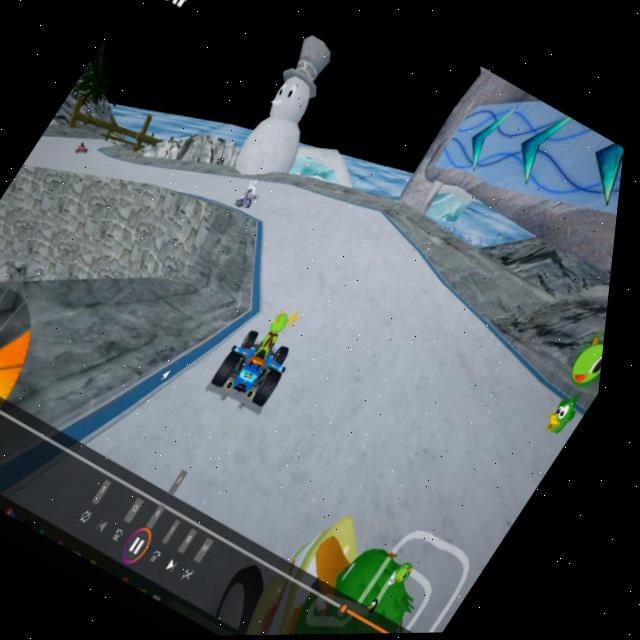enemy_kart: (75, 137, 99, 159)
player_kart: (204, 298, 325, 430), (234, 181, 267, 213)
track: (245, 261, 531, 530), (257, 169, 398, 279), (113, 137, 226, 214)
